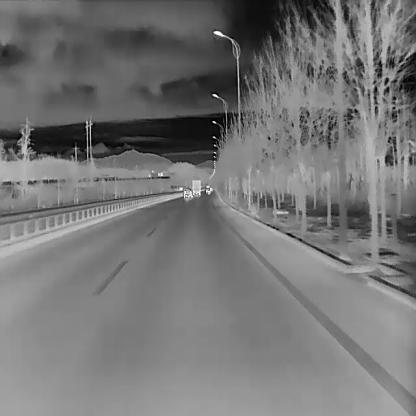car: (182, 187, 192, 197), (207, 190, 210, 194)
truck: (192, 180, 201, 196)
